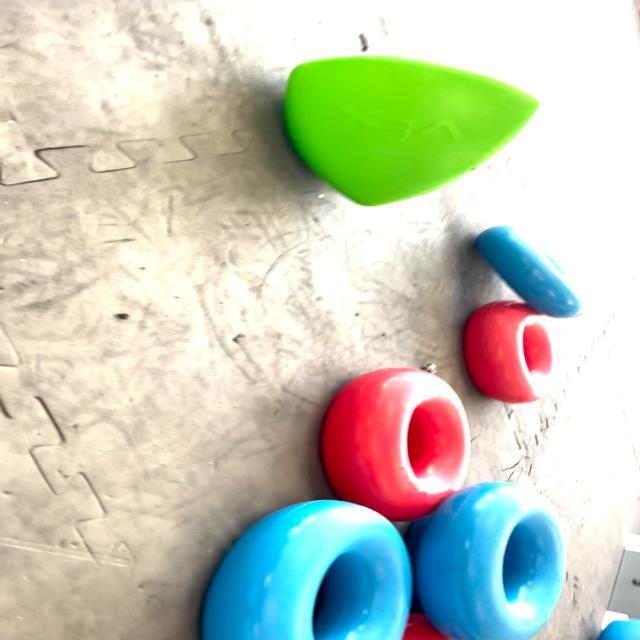Blue-Ring: (202, 500, 411, 639), (409, 481, 564, 640), (476, 226, 582, 318)
Red-Ring: (322, 368, 469, 521), (464, 300, 553, 402)
